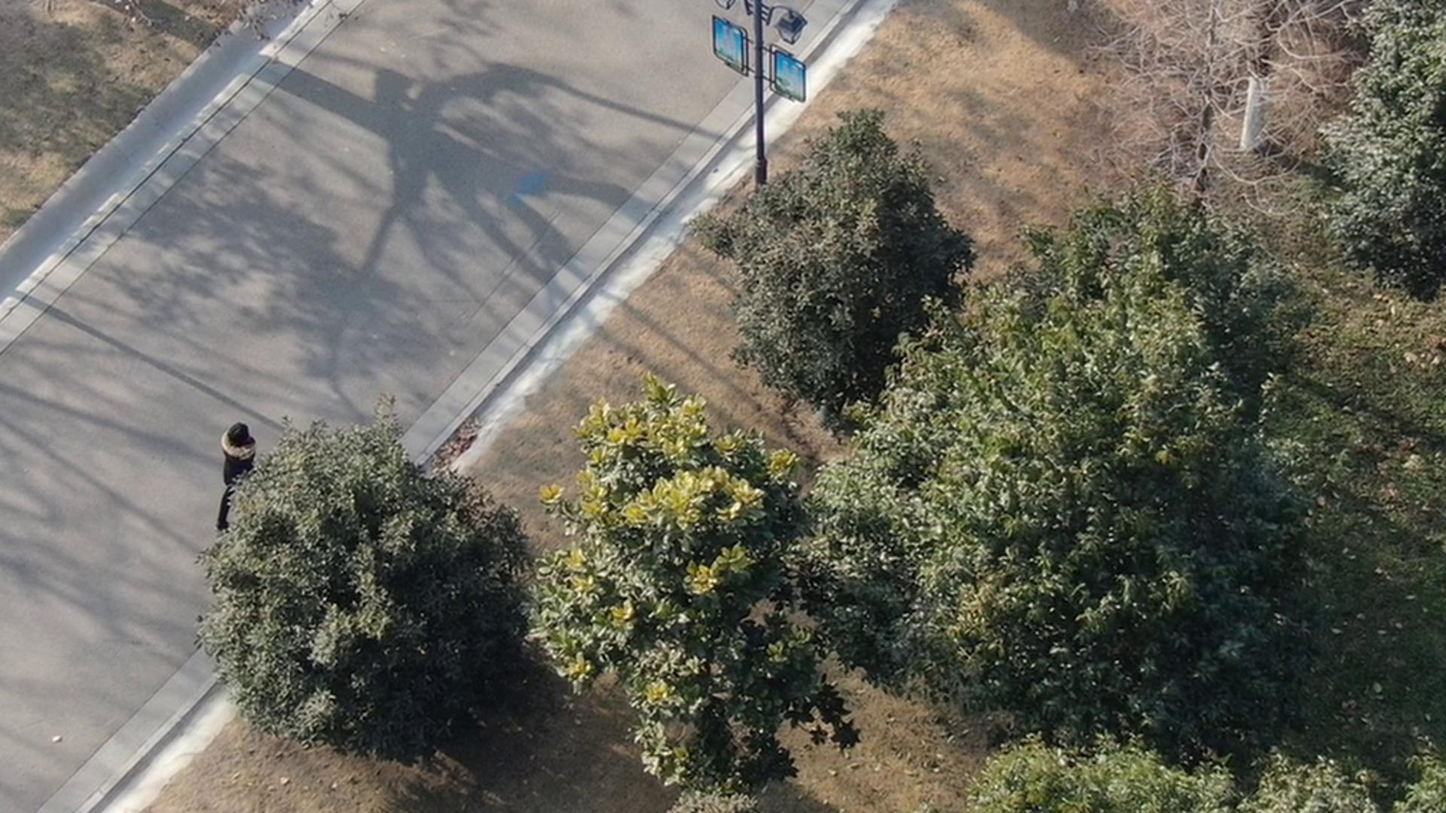human: (218, 400, 261, 516)
